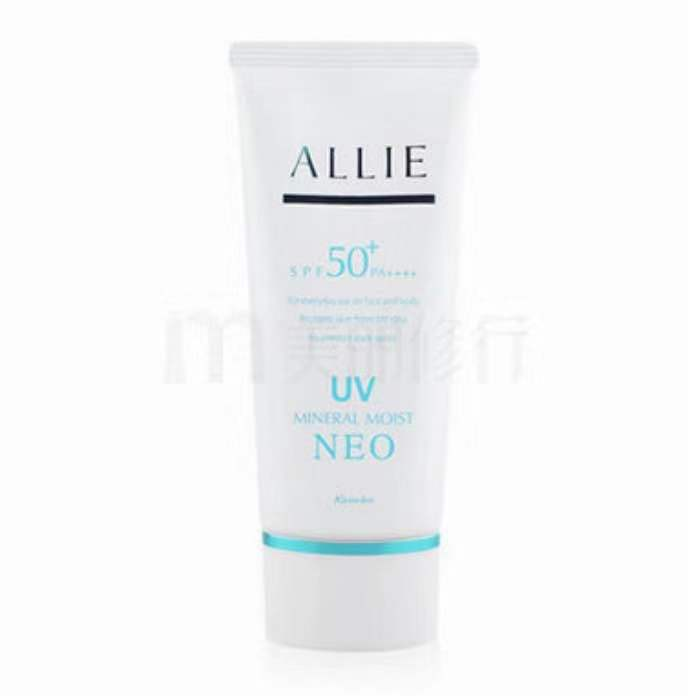cosmetic: (228, 39, 477, 652)
